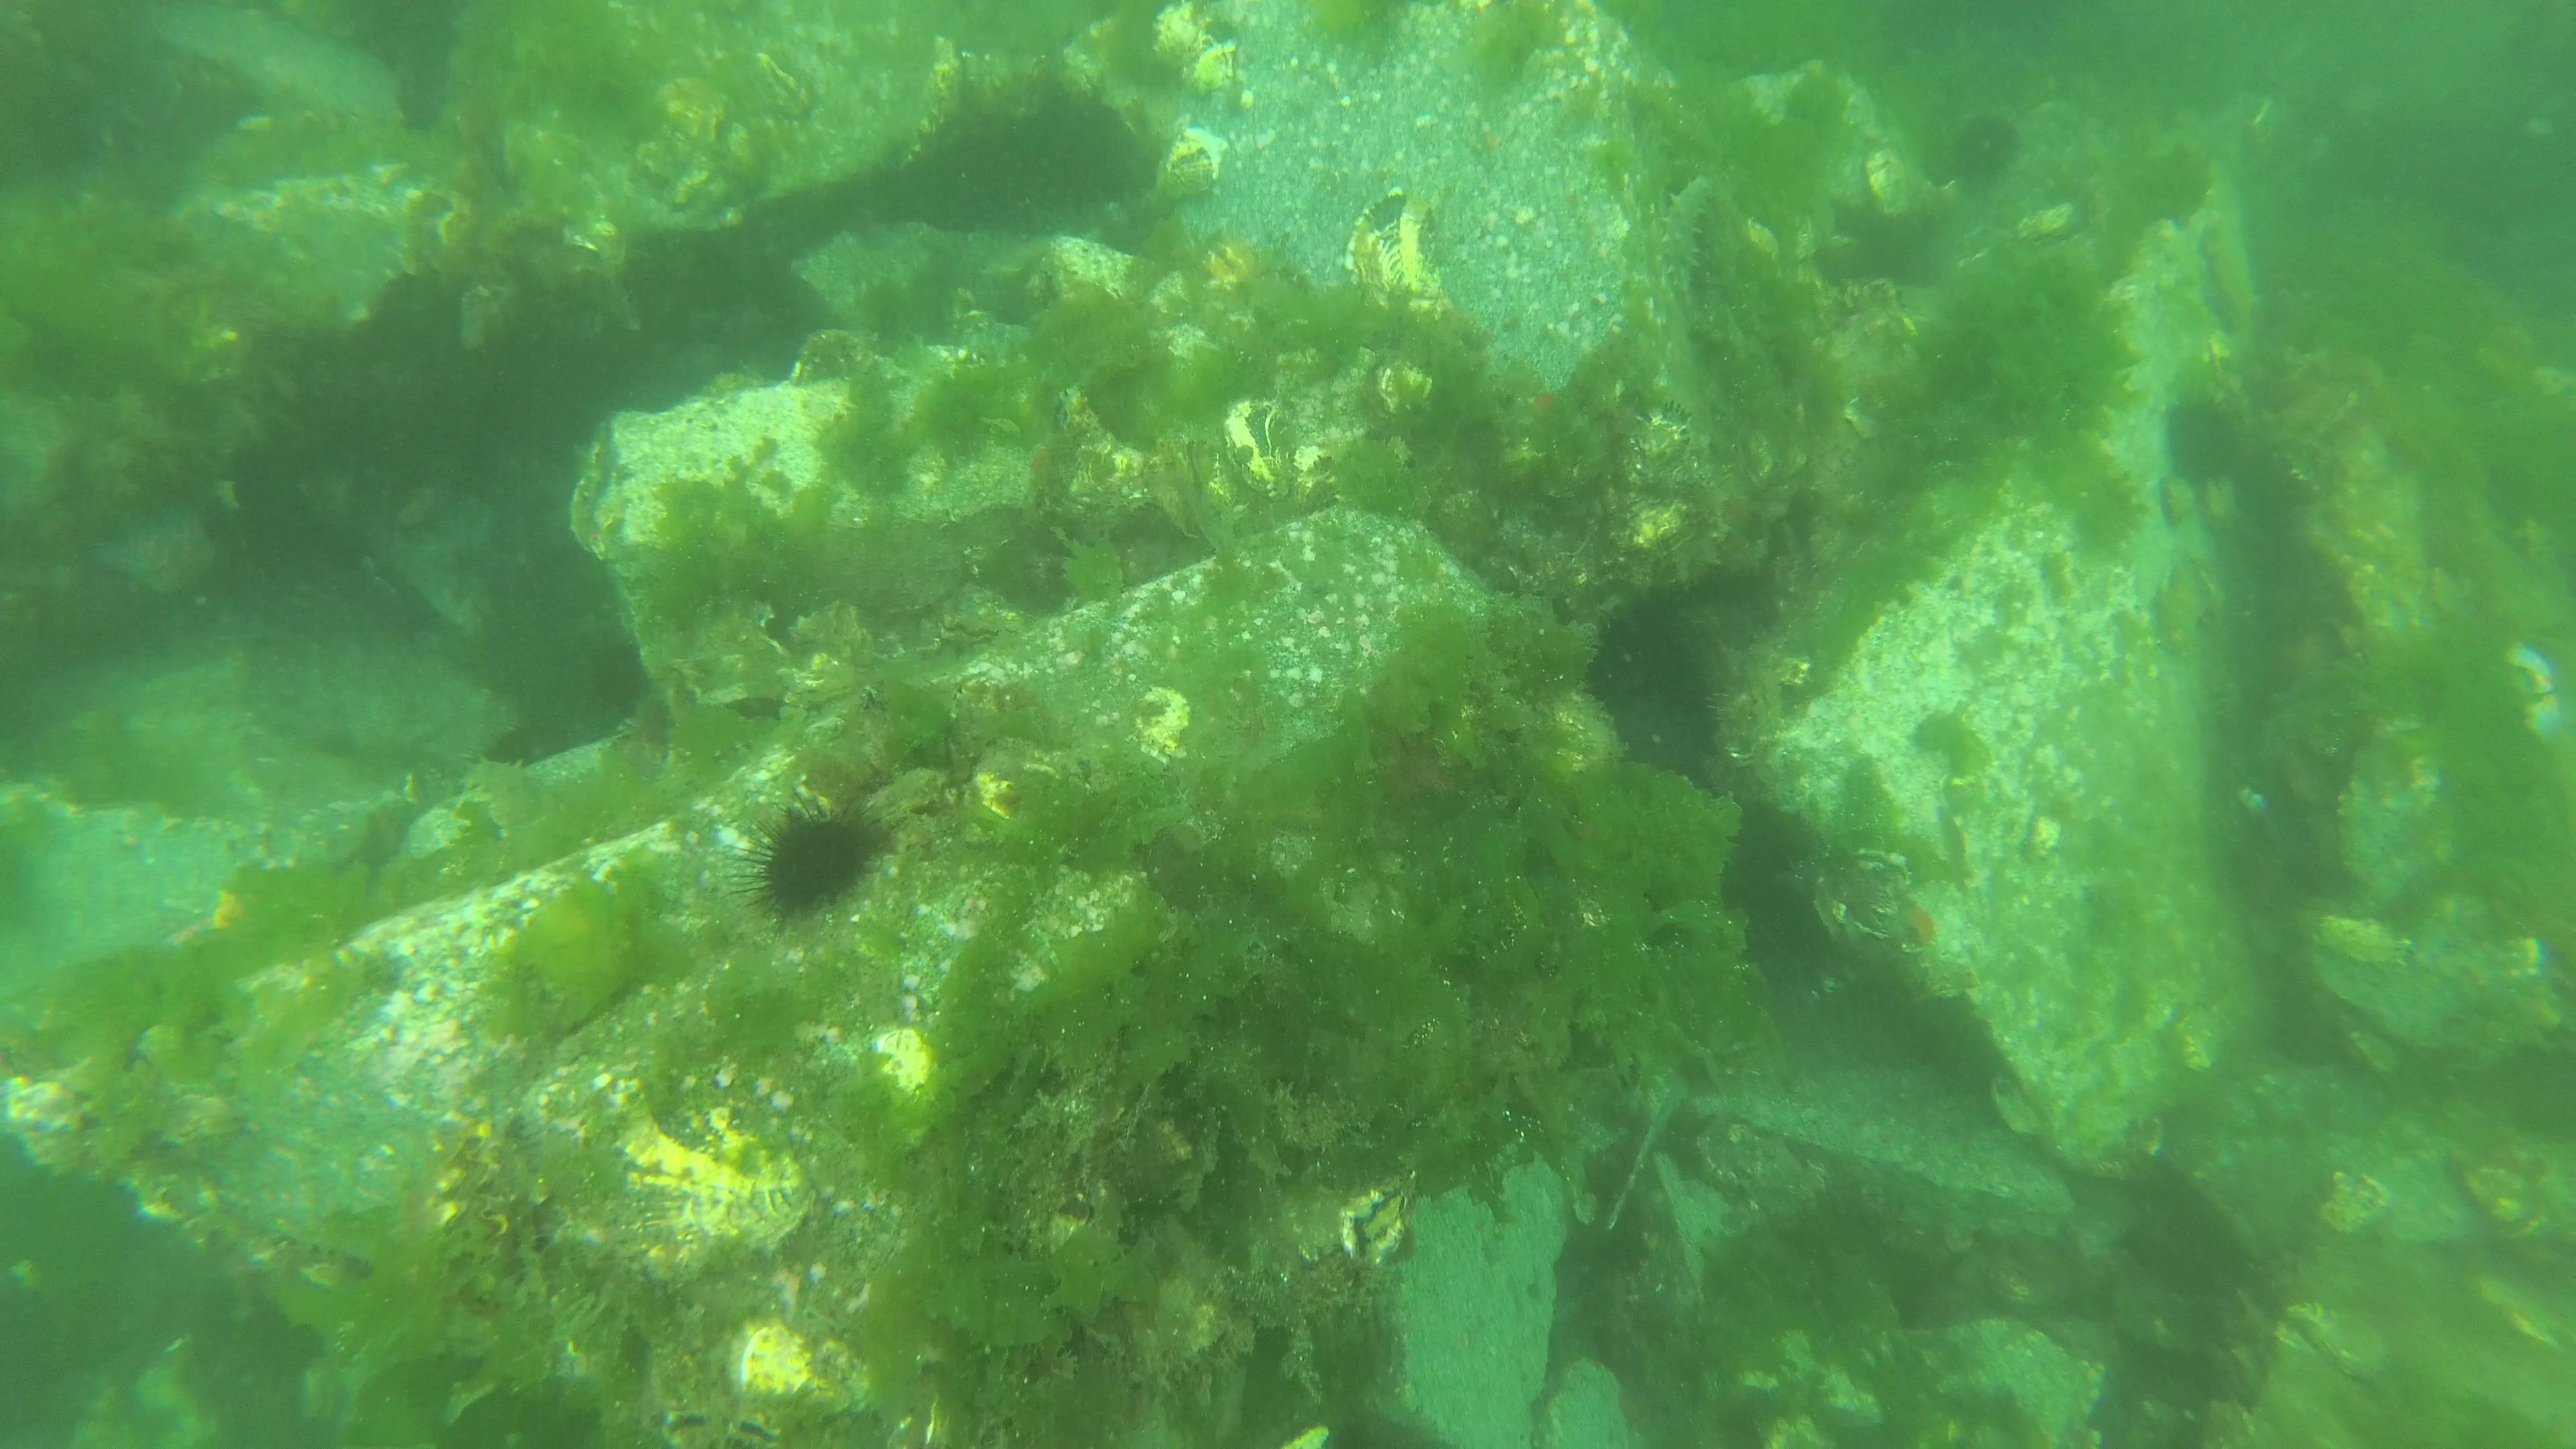echinus: (718, 782, 922, 939), (2158, 379, 2249, 502), (1941, 103, 2033, 196)
